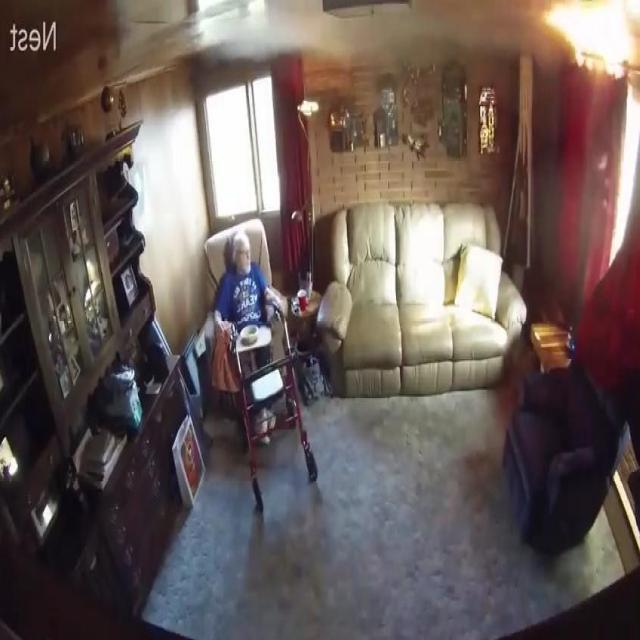fire: (201, 0, 522, 75)
smoke: (544, 7, 633, 80)
